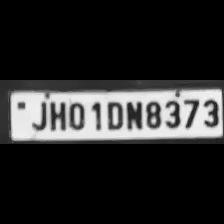0: (66, 99, 88, 131)
1: (87, 99, 103, 131)
3: (200, 96, 220, 128), (162, 97, 180, 129)
7: (181, 96, 199, 128)
8: (142, 98, 162, 130)
D: (103, 98, 123, 130)
H: (47, 98, 65, 132)
J: (28, 98, 48, 132)
N: (124, 98, 142, 130)
